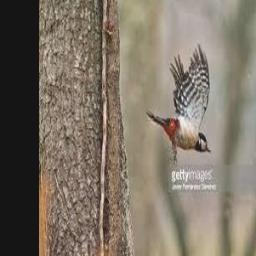Woodpecker: (146, 43, 211, 162)
